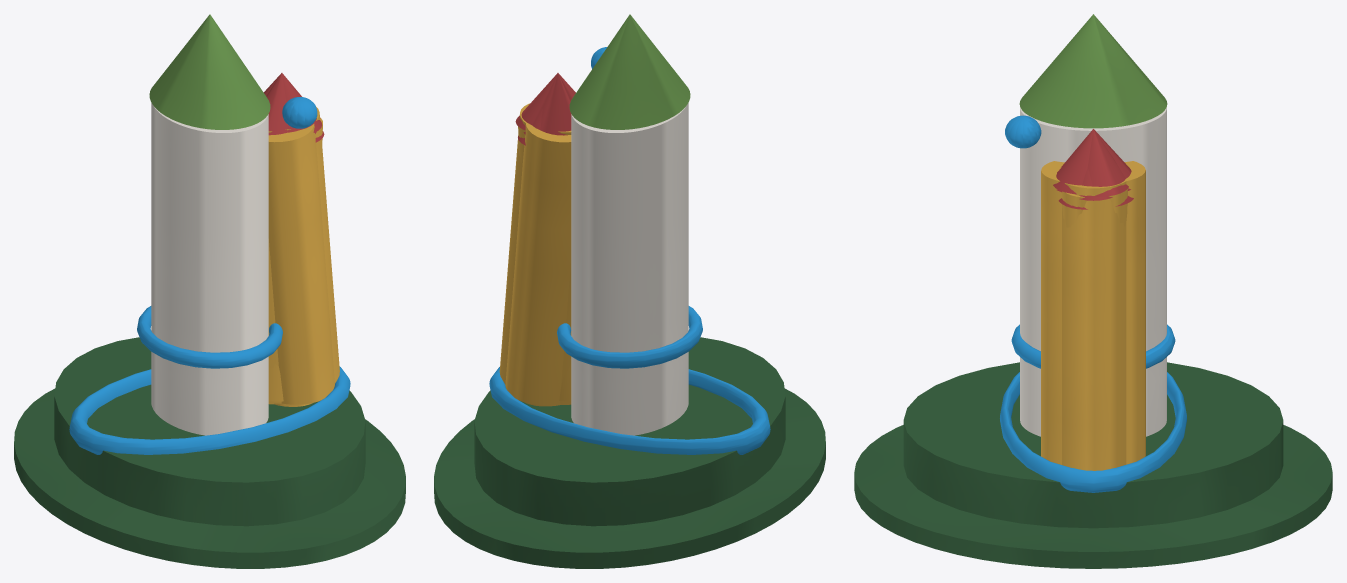
The model's file is 0550_岩石矿物图鉴_石盐.glb.
The picture shows the model from 3 angles, left to right: view 1: azimuth 30°, elevation 25°; view 2: azimuth 150°, elevation 25°; view 3: azimuth 270°, elevation 25°; orthographic projection. The views are drawn at different scales.
Visible parts, largest first — view 1: card_0550; view 2: card_0550; view 3: card_0550.
Part boxes in pixels (box(x1,y1,x2,y2)): card_0550: box(14, 14, 405, 568); card_0550: box(434, 14, 825, 568); card_0550: box(854, 14, 1332, 568).
Bounding box in the file's own units: 0.7157 × 1 × 0.9116.
